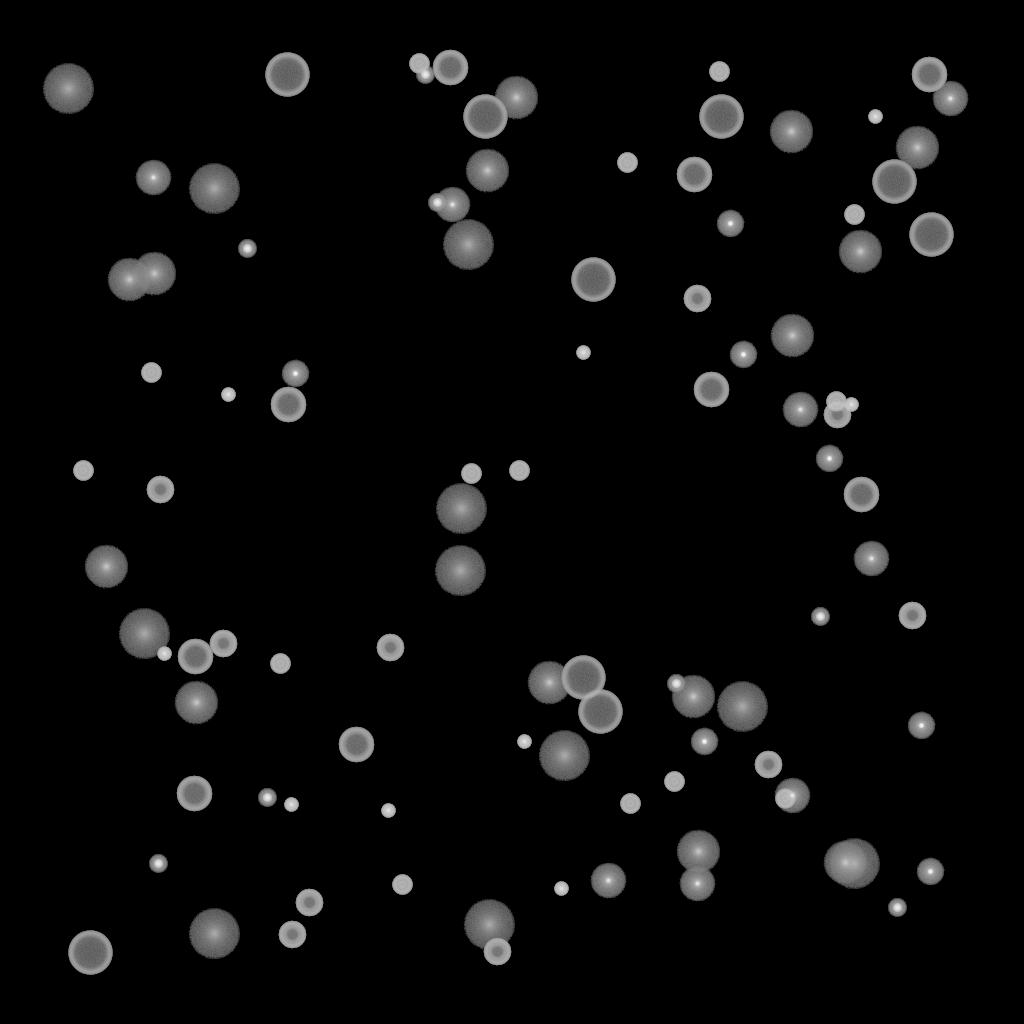depth:-10: (729, 341, 757, 369), (690, 728, 718, 756), (815, 445, 843, 473), (907, 712, 935, 740), (916, 858, 944, 886), (716, 210, 744, 238), (281, 360, 309, 388)
depth:-20: (667, 675, 685, 693), (811, 608, 829, 626), (149, 855, 167, 873), (416, 66, 434, 84), (428, 194, 446, 212), (258, 789, 276, 807), (888, 899, 906, 917), (238, 240, 256, 258)
depth:-30: (576, 346, 590, 360), (868, 110, 882, 124), (554, 882, 568, 896), (221, 388, 235, 402), (284, 798, 298, 812), (157, 647, 171, 661), (517, 735, 531, 749), (381, 804, 395, 818), (844, 398, 858, 412)
depth:-40: (392, 875, 412, 895), (620, 794, 640, 814), (270, 654, 290, 674), (409, 54, 429, 74), (664, 772, 684, 792), (617, 153, 637, 173), (844, 205, 864, 225), (141, 363, 161, 383), (775, 789, 795, 809), (509, 461, 529, 481), (709, 62, 729, 82), (461, 464, 481, 484), (73, 461, 93, 481), (826, 392, 846, 412)
depth:-50: (278, 921, 306, 949), (295, 889, 323, 917), (683, 285, 711, 313), (823, 401, 851, 429), (209, 630, 237, 658), (146, 476, 174, 504), (483, 938, 511, 966), (376, 634, 404, 662), (754, 751, 782, 779), (898, 602, 926, 630)
depth:-60: (176, 776, 212, 812), (270, 387, 306, 423), (843, 477, 879, 513), (911, 57, 947, 93), (676, 157, 712, 193), (432, 50, 468, 86), (177, 639, 213, 675), (338, 727, 374, 763), (693, 372, 729, 408)
depth:-70: (699, 95, 743, 139), (265, 53, 309, 97), (571, 258, 615, 302), (909, 213, 953, 257), (872, 160, 916, 204), (578, 690, 622, 734), (561, 656, 605, 700), (68, 931, 112, 975), (463, 95, 507, 139)
depth:0: (590, 863, 626, 899), (774, 778, 810, 814), (135, 160, 171, 196), (679, 866, 715, 902), (782, 392, 818, 428), (932, 81, 968, 117), (853, 541, 889, 577), (434, 187, 470, 223)
depth:10: (107, 258, 151, 302), (770, 314, 814, 358), (84, 545, 128, 589), (676, 830, 720, 874), (527, 661, 571, 705), (895, 126, 939, 170), (132, 252, 176, 296), (494, 76, 538, 120), (465, 149, 509, 193), (838, 230, 882, 274), (174, 681, 218, 725), (671, 675, 715, 719), (823, 841, 867, 885), (769, 110, 813, 154)
depth:20: (442, 220, 494, 270), (463, 900, 515, 950), (188, 909, 240, 959), (118, 609, 170, 659), (828, 839, 880, 889), (435, 484, 487, 534), (42, 64, 94, 114), (538, 731, 590, 781), (188, 164, 240, 214), (716, 682, 768, 732), (434, 546, 486, 596)
